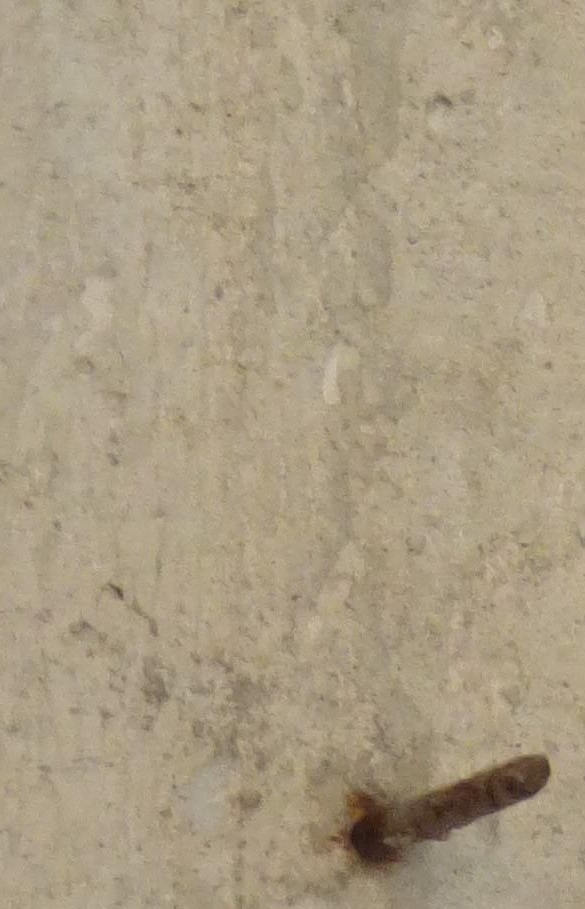Exposed reinforcement: (356, 752, 551, 857)
